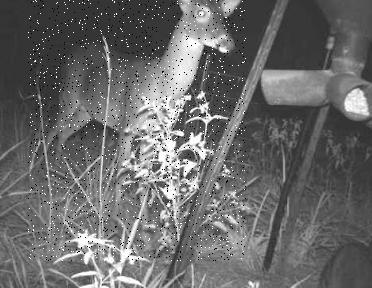Deer: (28, 0, 246, 261)
